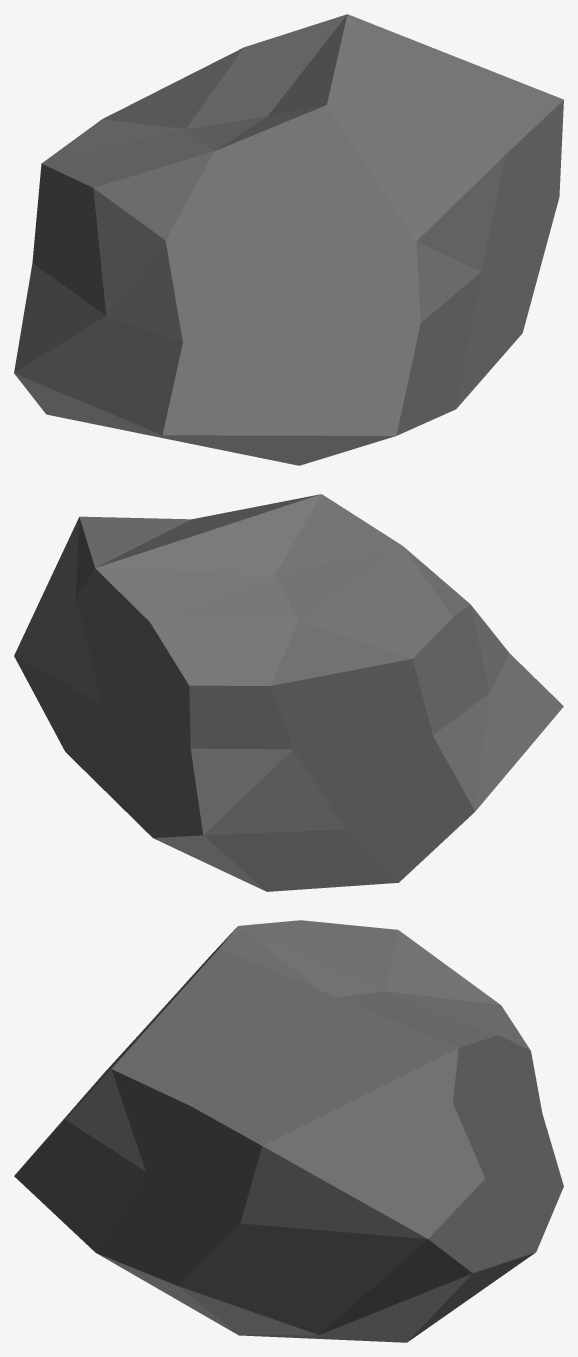
File: rock1.fbx
3 renders of one model, top to bottom at view 1: azimuth 30°, elevation 25°; view 2: azimuth 150°, elevation 25°; view 3: azimuth 270°, elevation 25°, orthographic. The views are drawn at different scales.
Parts seen in each view (by area): view 1: rock-small1_LOD0; view 2: rock-small1_LOD0; view 3: rock-small1_LOD0.
Part boxes in pixels (bbox=[...]): rock-small1_LOD0: bbox=[14, 14, 563, 465]; rock-small1_LOD0: bbox=[14, 494, 563, 891]; rock-small1_LOD0: bbox=[14, 920, 563, 1342].
Size of what is drawn, in the model's own units: 0.9771 by 0.6555 by 0.9318.
